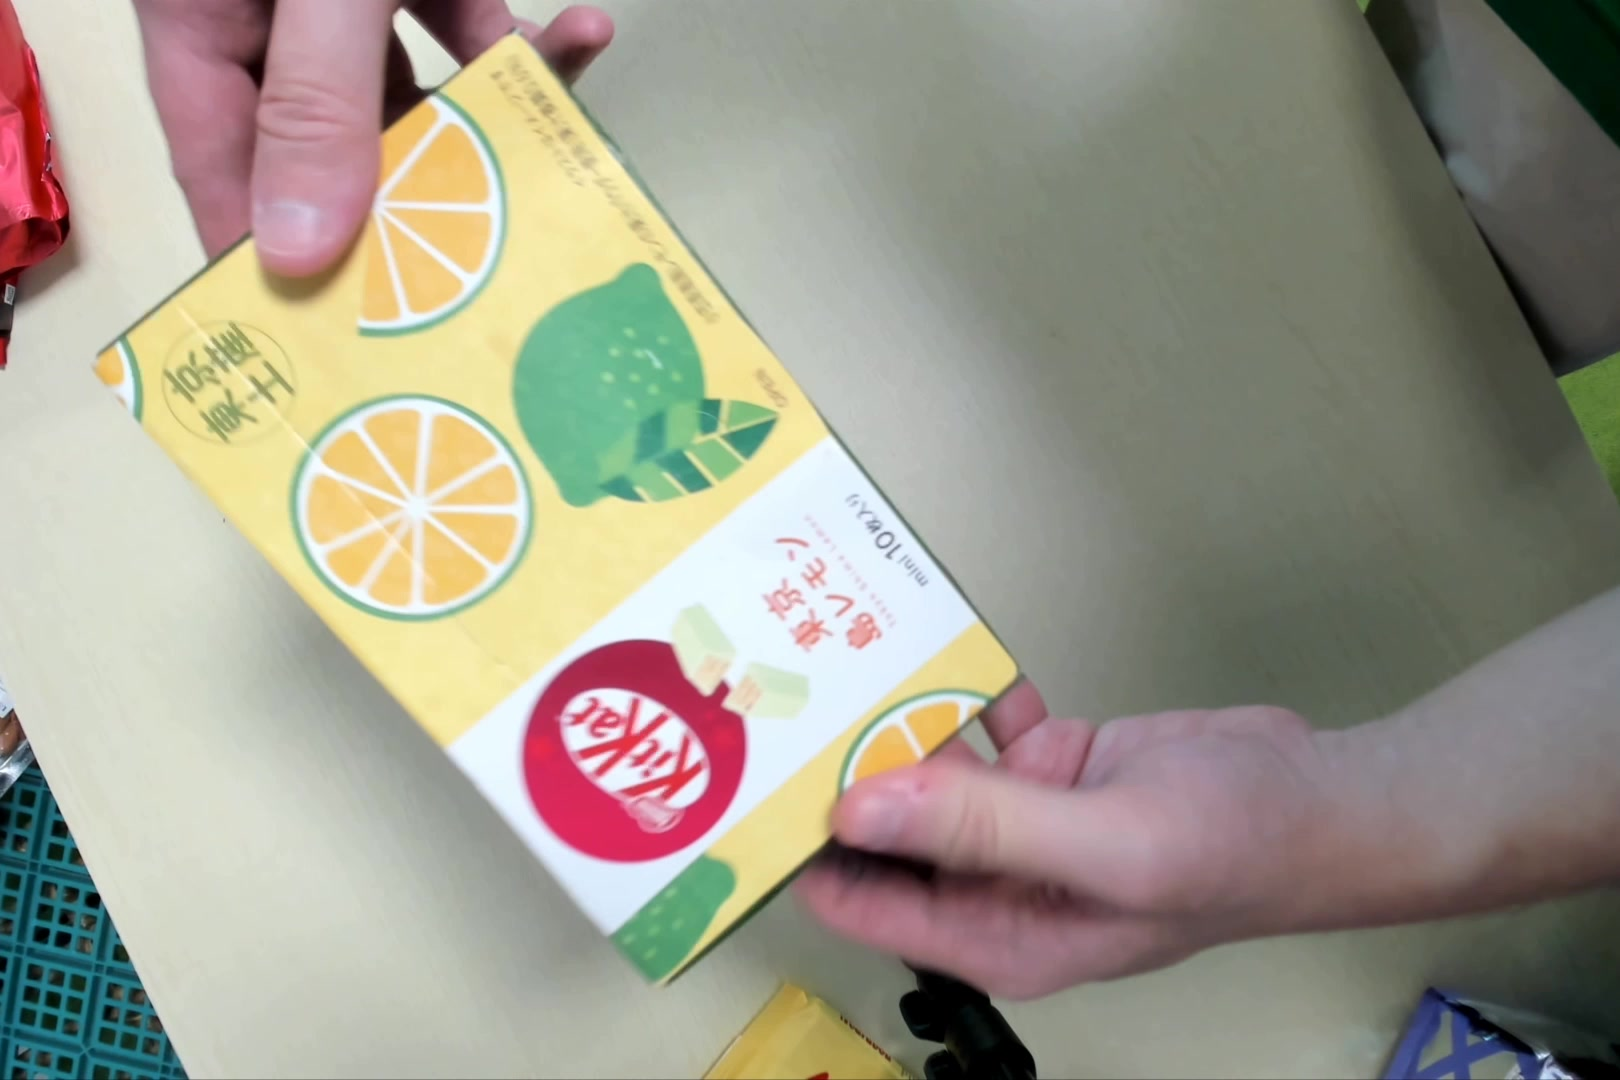SweetsChocolatesOthers_100-199g_NonHalal_NonHealthy: (87, 34, 1033, 984)
